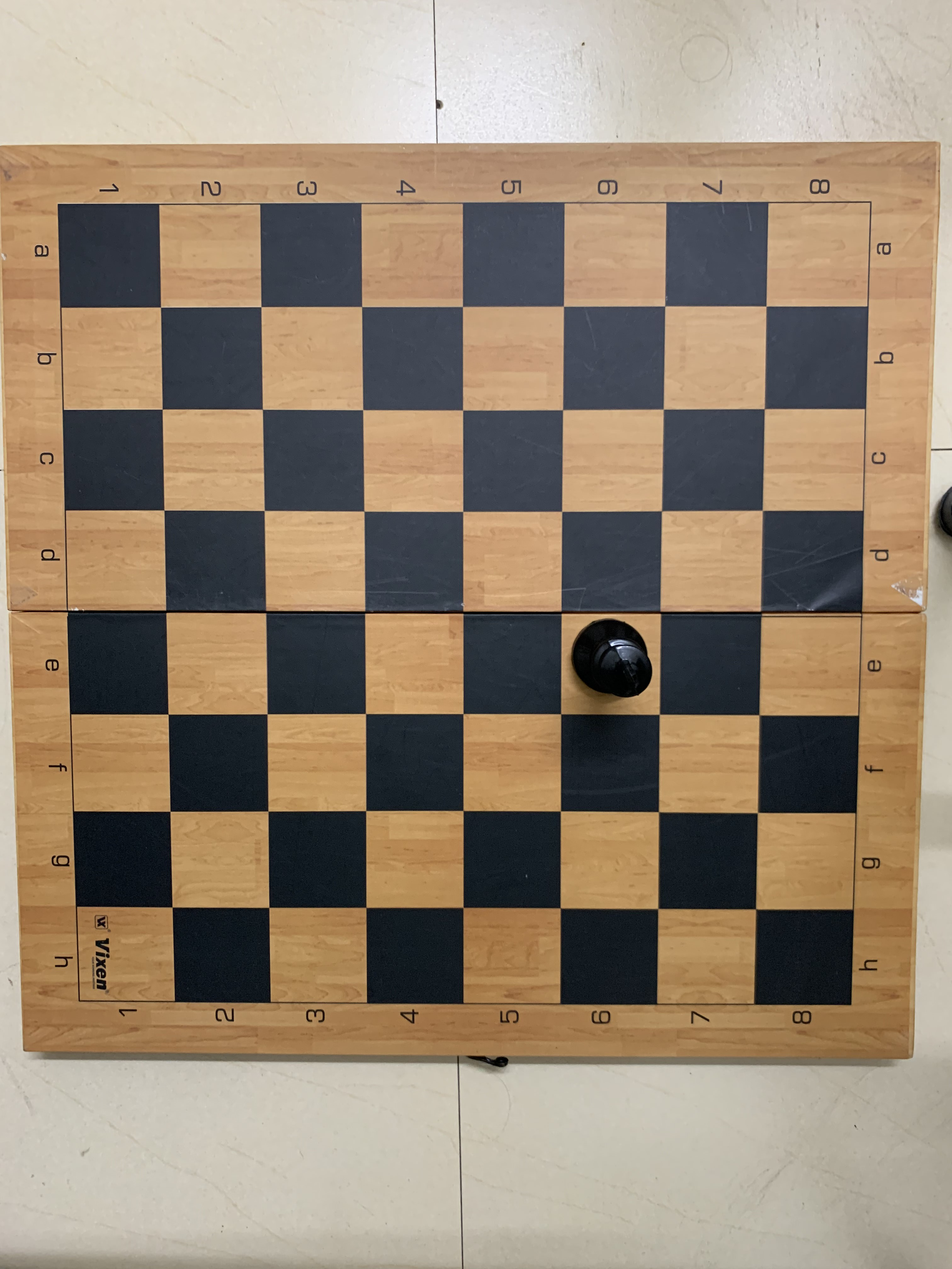black_king: (564, 609, 663, 718)
